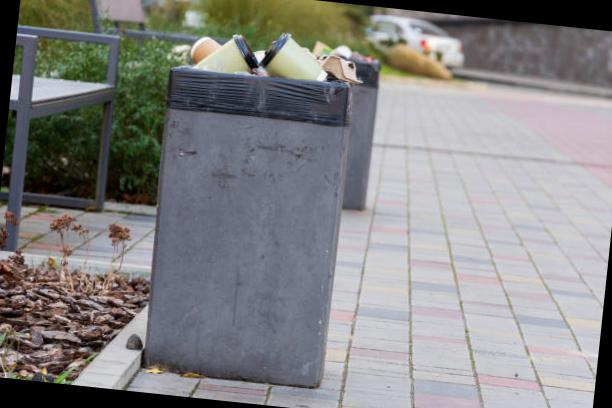trash: (256, 22, 390, 90), (183, 21, 258, 78), (314, 36, 374, 62)
trash_can_overflow: (137, 20, 359, 392), (298, 37, 390, 216)
